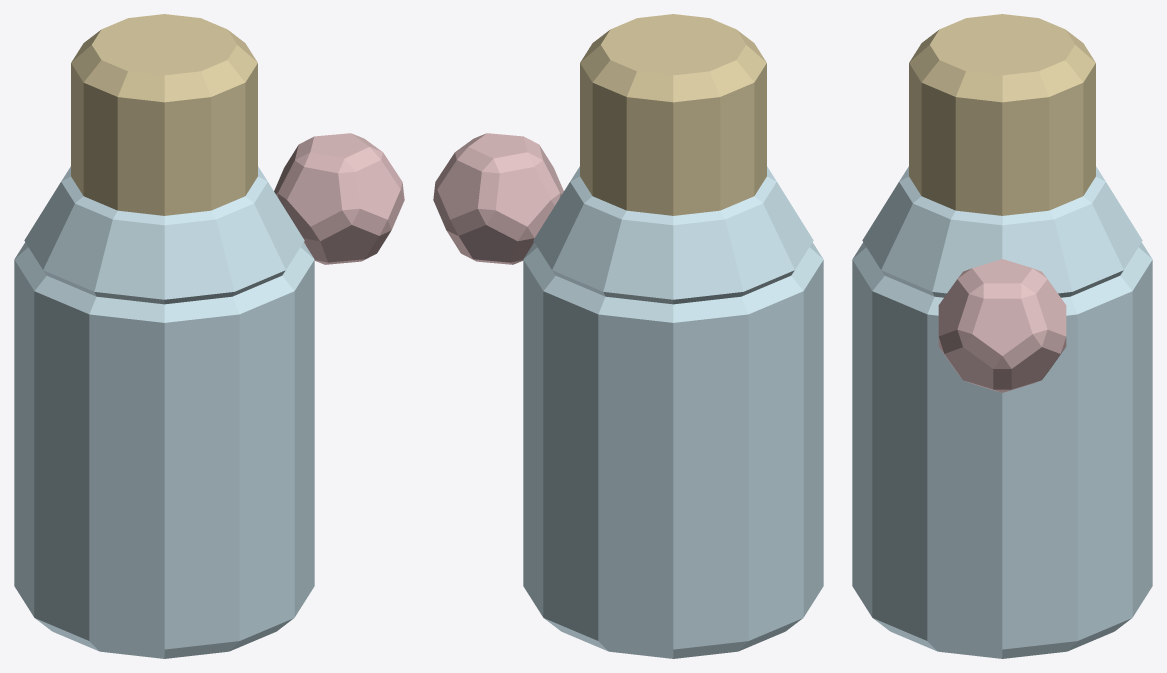
File: SM_Perfume.fbx
3 renders of one model, left to right at view 1: azimuth 30°, elevation 25°; view 2: azimuth 150°, elevation 25°; view 3: azimuth 270°, elevation 25°, orthographic.
Parts seen in each view (by area): view 1: Perfume; view 2: Perfume; view 3: Perfume.
Part boxes in pixels (x1,y1,x2,y2): Perfume: (14,14,404,658); Perfume: (433,14,823,658); Perfume: (852,14,1152,658).
Bounding box in the file's own units: 12.51 × 18.5 × 9.
